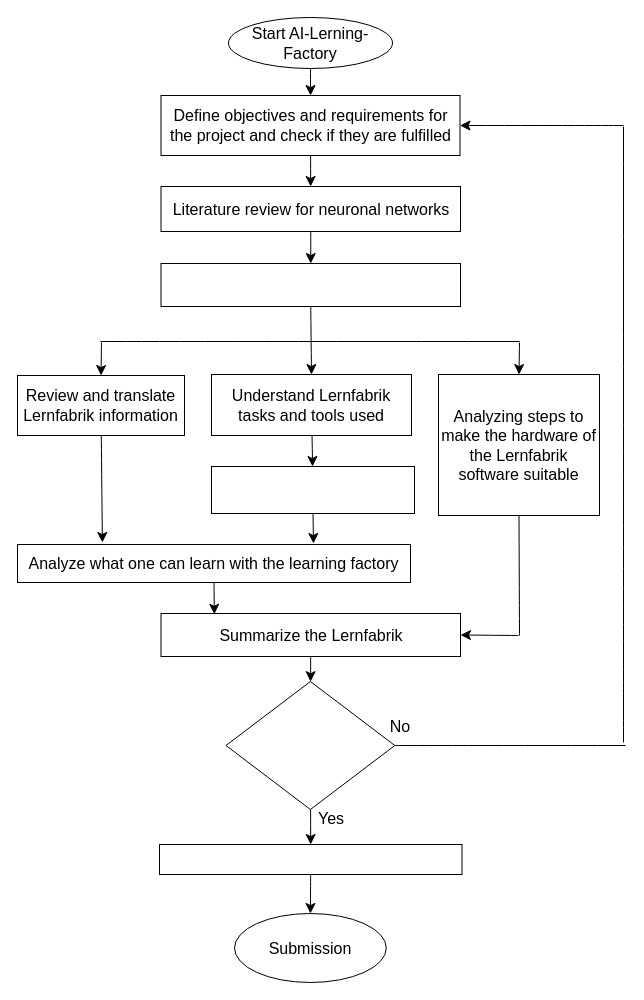
Image size: 644x1000. Some labels were removed from this diagram. Here are the shapes that lost their labels. From the top down, the centre of each, then its label:
(x=310, y=284): Analyze the working principle of the learning factory
(x=312, y=490): Write English task solution
(x=310, y=745): All requirements fulfilled?
(x=310, y=859): Write report
